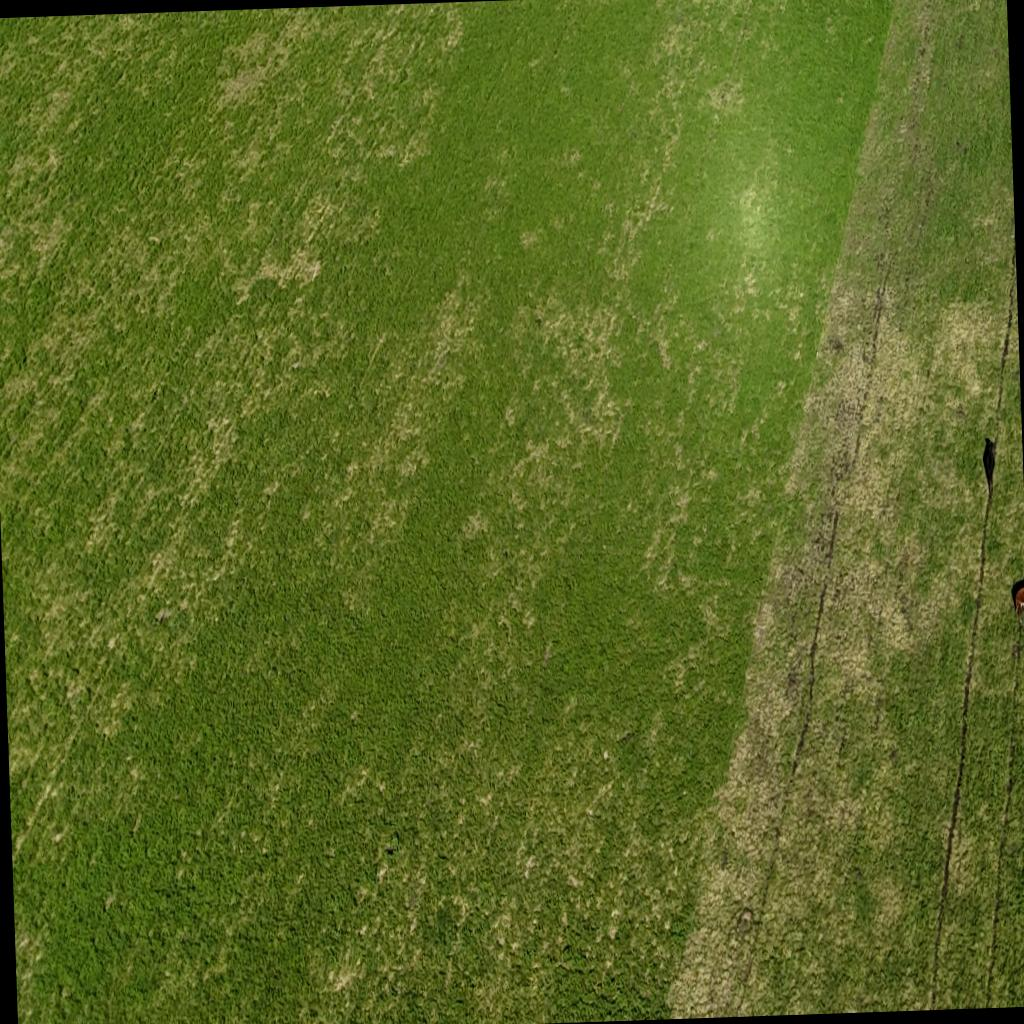cow: (980, 434, 996, 490), (1008, 574, 1024, 625)
